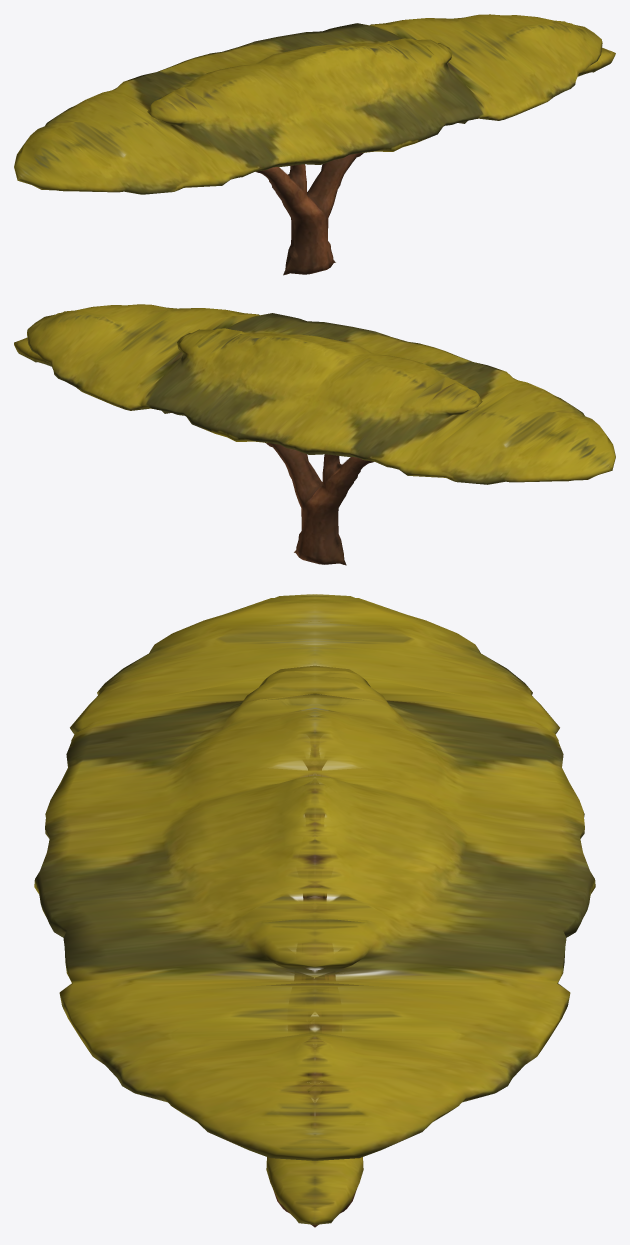
The model's file is 25_trees_d_r00_c00.glb.
The picture shows the model from 3 angles, top to bottom: view 1: azimuth 30°, elevation 25°; view 2: azimuth 150°, elevation 25°; view 3: azimuth 270°, elevation 25°; orthographic projection. The views are drawn at different scales.
Parts seen in each view (by area): view 1: 25_trees_d_r00_c00; view 2: 25_trees_d_r00_c00; view 3: 25_trees_d_r00_c00.
Boxes of the visible parts, x1,y1,x2,y2 form: 25_trees_d_r00_c00: (14,14,615,275); 25_trees_d_r00_c00: (14,304,615,565); 25_trees_d_r00_c00: (34,594,595,1227).
Bounding box in the file's own units: 8.96 × 3.06 × 3.64.
Materials: 1 (1 with a texture image).
